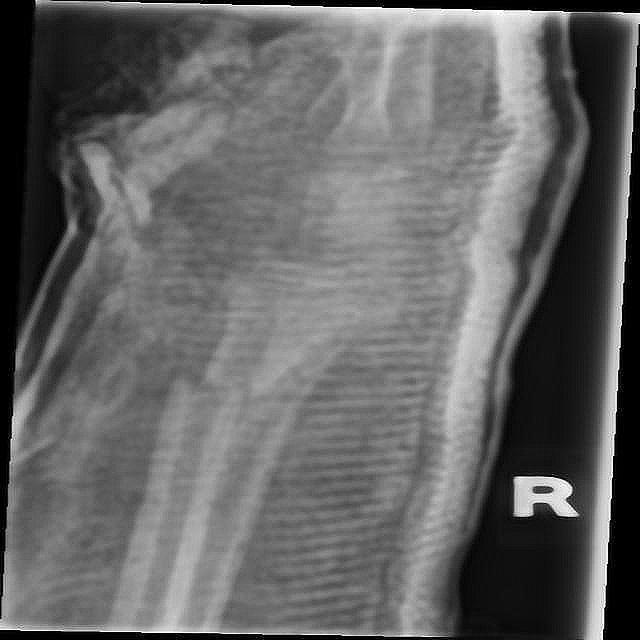bone: (162, 360, 286, 410)
